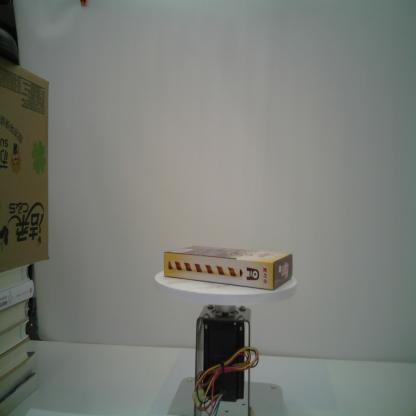Dessert: (163, 244, 293, 290)
